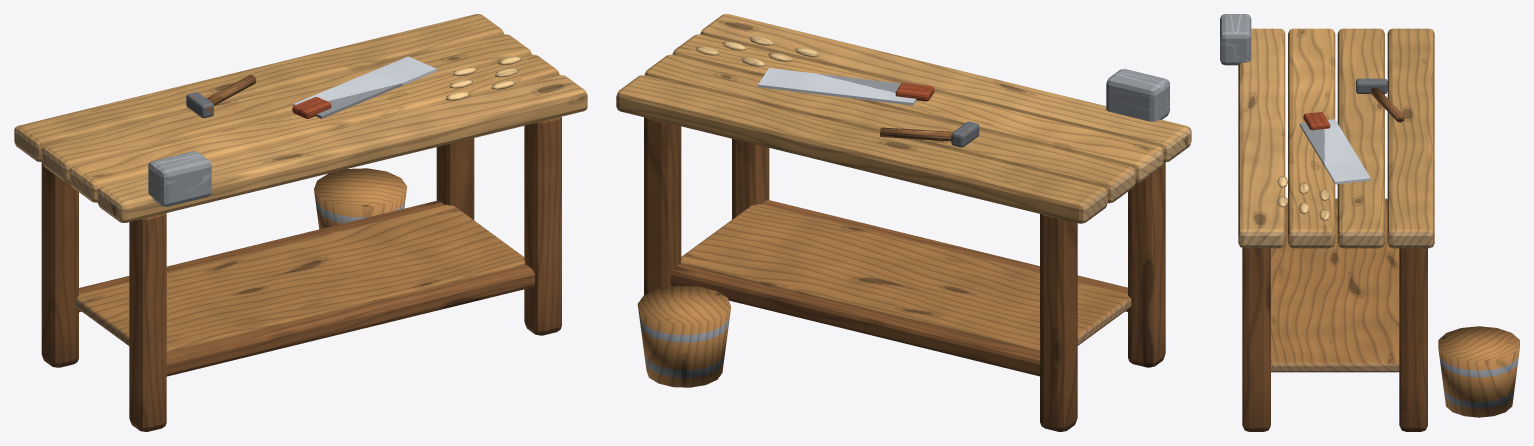
The model's file is workbench.glb.
3 renders of one model, left to right at view 1: azimuth 30°, elevation 25°; view 2: azimuth 150°, elevation 25°; view 3: azimuth 270°, elevation 25°, orthographic. The views are drawn at different scales.
Parts seen in each view (by area): view 1: Workbench; view 2: Workbench; view 3: Workbench.
Part boxes in pixels (box(x1,y1,x2,y2)): Workbench: box(14, 14, 587, 431); Workbench: box(616, 14, 1191, 431); Workbench: box(1220, 14, 1519, 431).
Size of the model in its own units: 1.85 by 1.02 by 1.15.
1 material, 1 textured.
